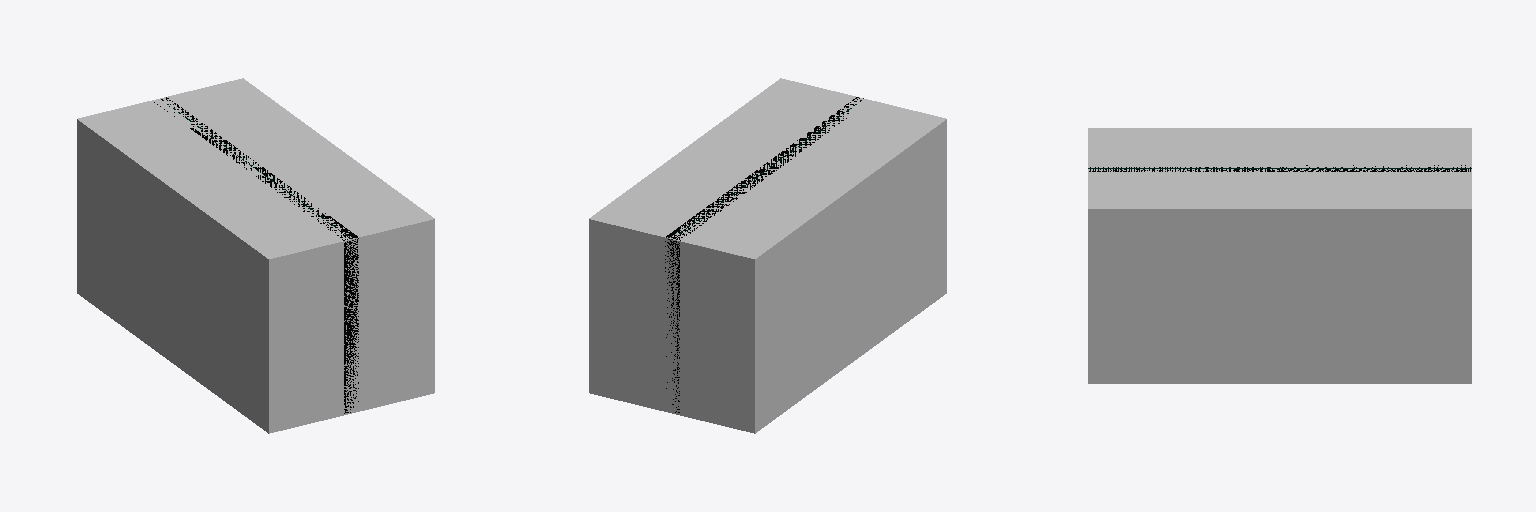
Rendered from FacadeGlass.obj.
3 views of the same model, side by side, from view 1: azimuth 30°, elevation 25°; view 2: azimuth 150°, elevation 25°; view 3: azimuth 270°, elevation 25° (orthographic).
Parts seen in each view (by area): view 1: Boolean_Plane.005, WindowFrame; view 2: Boolean_Plane.005, WindowFrame; view 3: Boolean_Plane.005, WindowFrame.
Part boxes in pixels (bbox=[...]): Boolean_Plane.005: bbox=[77, 78, 434, 433]; WindowFrame: bbox=[154, 97, 358, 413]; Boolean_Plane.005: bbox=[589, 78, 946, 433]; WindowFrame: bbox=[665, 97, 860, 412]; Boolean_Plane.005: bbox=[1088, 128, 1471, 383]; WindowFrame: bbox=[1089, 165, 1470, 171].
Bounding box in the file's own units: 1 × 1 × 2.